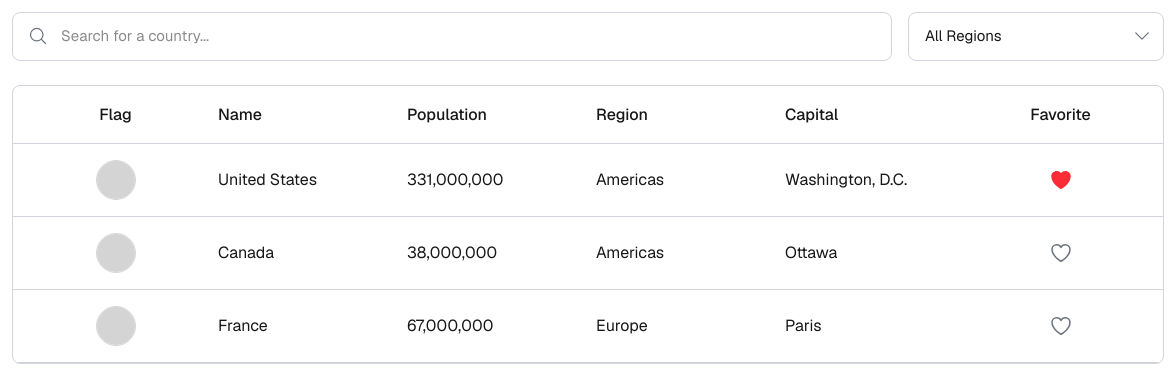
Test case: CountryListClient › should filter countries by region
Step 1. Select "Europe" in the dropdown → (1036, 36), box [908, 12, 1164, 60]
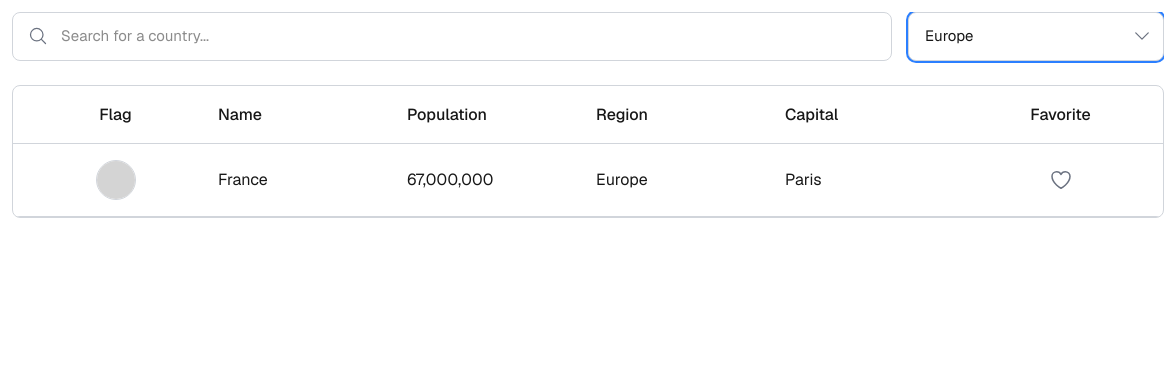
Expected: the button "United States" is gone
Expected: the button "Canada" is gone
